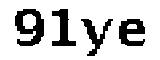1: (50, 5, 77, 51)
9: (7, 5, 46, 49)
e: (118, 19, 150, 53)
y: (81, 15, 116, 59)
